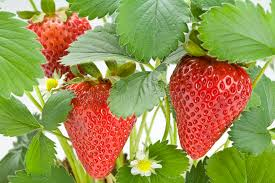ripe: (161, 40, 261, 160), (49, 78, 148, 178), (21, 6, 101, 82)
